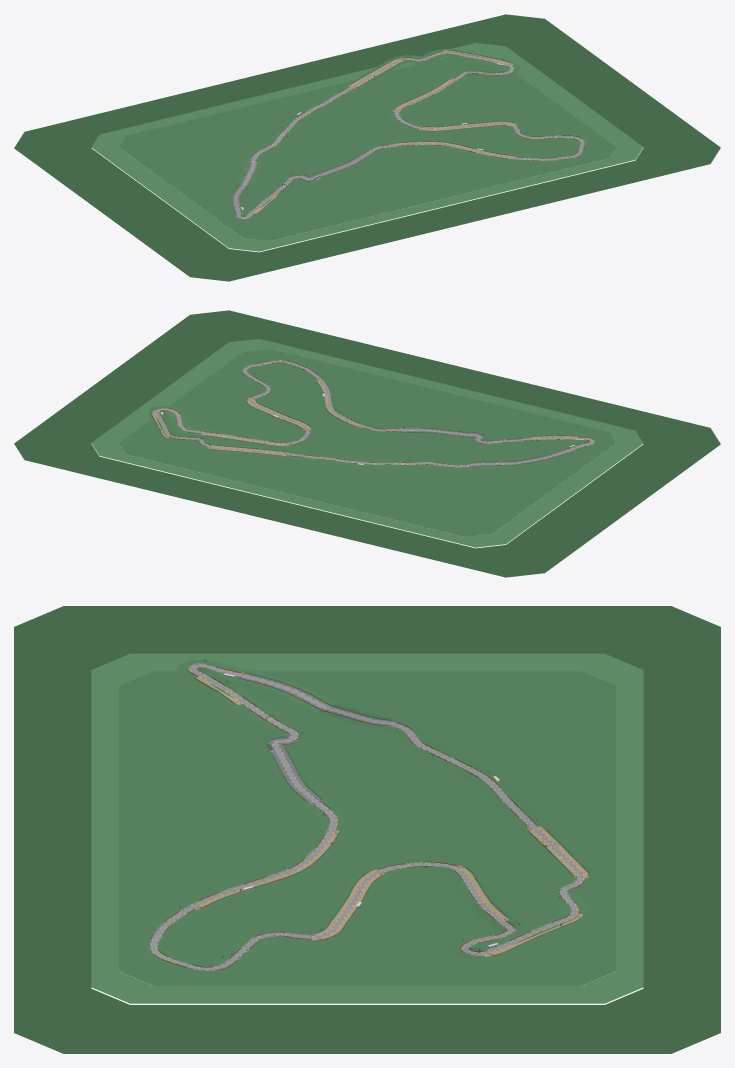
File: spa.glb
3 renders of one model, top to bottom at view 1: azimuth 30°, elevation 25°; view 2: azimuth 150°, elevation 25°; view 3: azimuth 270°, elevation 25°, orthographic. The views are drawn at different scales.
Visible parts, largest first — view 1: terrain_infield, terrain_outskirts, terrain_verge, track_embankment, track_surface, continuous_safety_barriers, gravel_runoff_zones, track_runoff, asphalt_runoff_zones; view 2: terrain_infield, terrain_outskirts, terrain_verge, track_embankment, track_surface, continuous_safety_barriers, gravel_runoff_zones, track_runoff, asphalt_runoff_zones; view 3: terrain_infield, terrain_outskirts, terrain_verge, track_embankment, track_surface, continuous_safety_barriers, gravel_runoff_zones, track_runoff, track_curbs, asphalt_runoff_zones.
Boxes of the visible parts, bbox=[...] form: terrain_infield: bbox=[119, 55, 615, 240]; terrain_outskirts: bbox=[14, 14, 720, 281]; terrain_verge: bbox=[91, 43, 643, 251]; track_embankment: bbox=[227, 49, 591, 221]; track_surface: bbox=[234, 52, 584, 218]; continuous_safety_barriers: bbox=[232, 50, 585, 218]; gravel_runoff_zones: bbox=[254, 50, 517, 213]; track_runoff: bbox=[235, 51, 580, 218]; asphalt_runoff_zones: bbox=[232, 154, 368, 208]; terrain_infield: bbox=[119, 349, 615, 536]; terrain_outskirts: bbox=[14, 310, 720, 577]; terrain_verge: bbox=[91, 339, 643, 547]; track_embankment: bbox=[149, 357, 600, 470]; track_surface: bbox=[156, 361, 593, 467]; continuous_safety_barriers: bbox=[152, 360, 594, 467]; gravel_runoff_zones: bbox=[152, 380, 577, 455]; track_runoff: bbox=[156, 362, 594, 467]; asphalt_runoff_zones: bbox=[398, 428, 575, 467]; terrain_infield: bbox=[119, 671, 615, 985]; terrain_outskirts: bbox=[14, 606, 720, 1053]; terrain_verge: bbox=[91, 653, 643, 1003]; track_embankment: bbox=[138, 659, 596, 975]; track_surface: bbox=[151, 664, 583, 969]; continuous_safety_barriers: bbox=[149, 663, 589, 970]; gravel_runoff_zones: bbox=[193, 676, 588, 956]; track_runoff: bbox=[149, 664, 584, 967]; track_curbs: bbox=[150, 664, 583, 970]; asphalt_runoff_zones: bbox=[234, 672, 404, 805].
Bounding box in the file's own units: 3061 × 115 × 2043.
